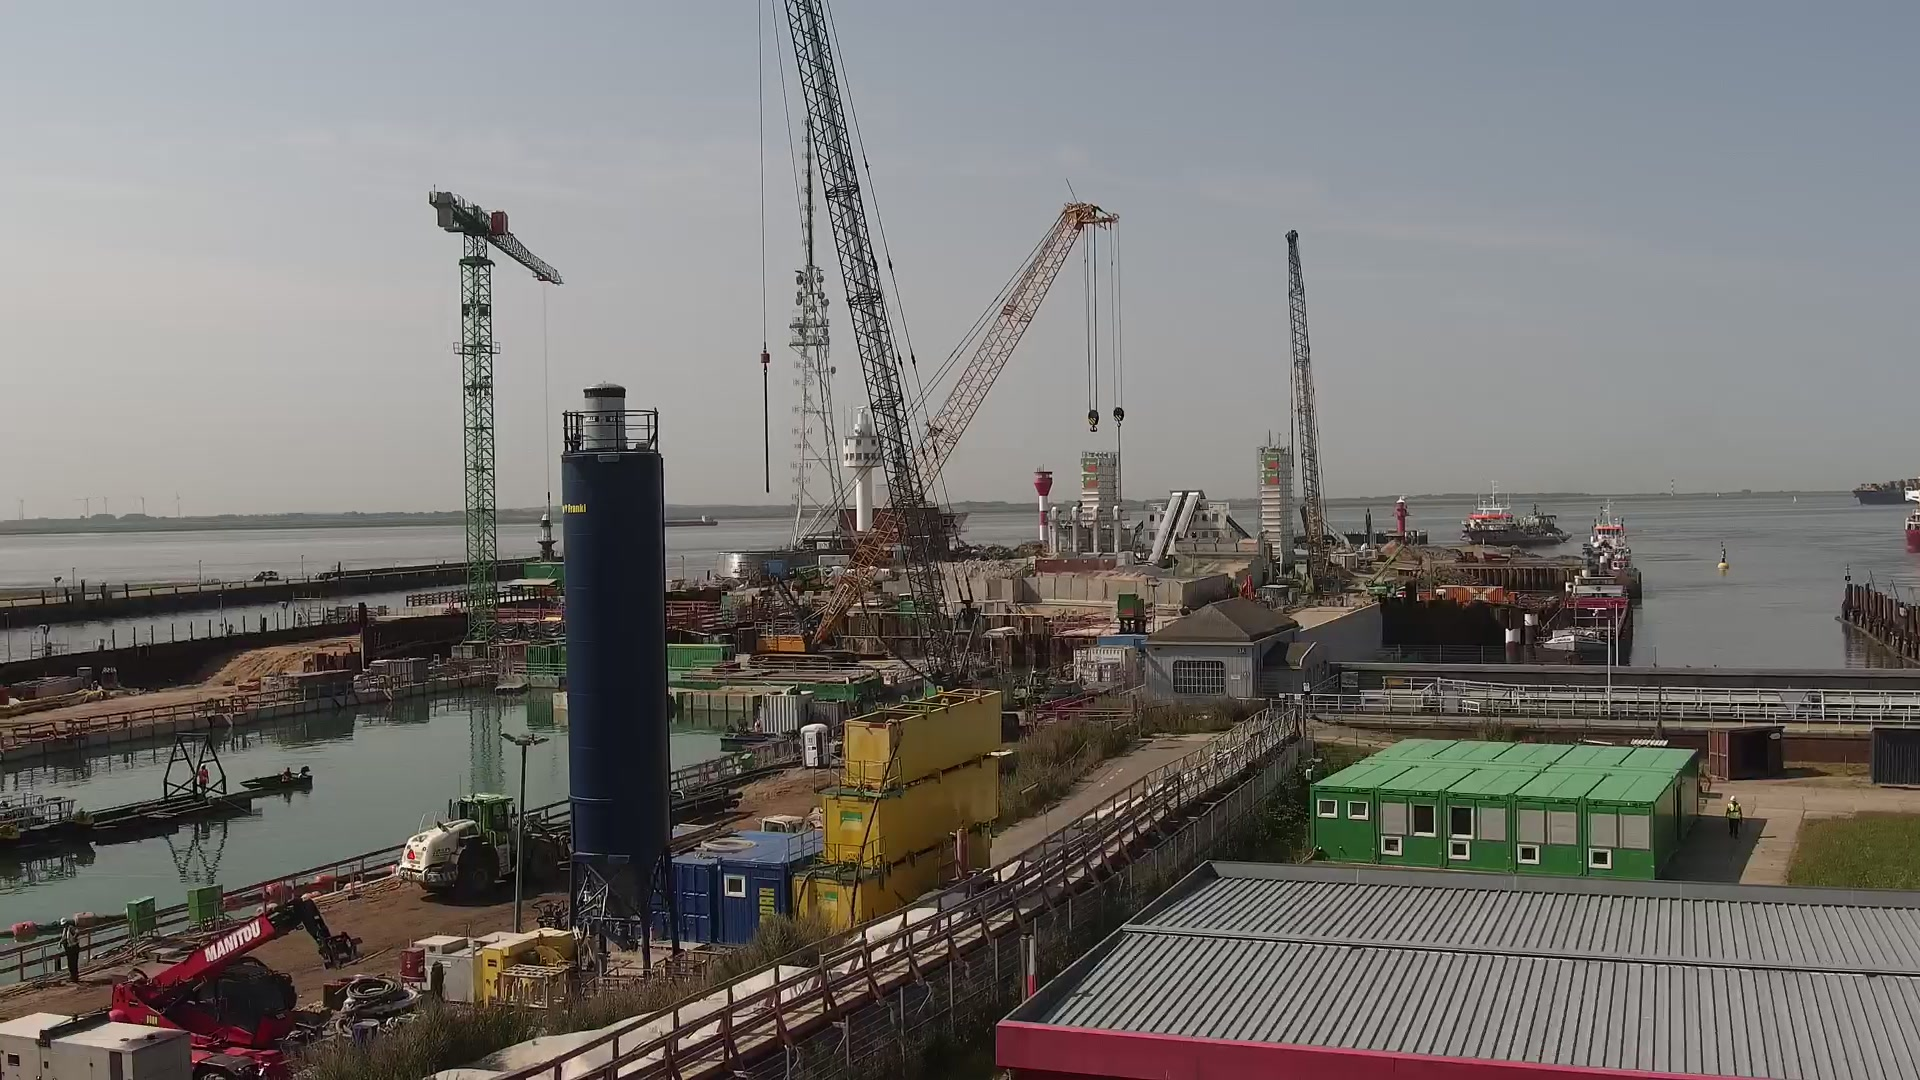human: (55, 916, 82, 982), (1724, 794, 1743, 839), (196, 762, 209, 797), (280, 766, 292, 783)
land: (395, 791, 573, 897), (252, 570, 280, 582)
sea: (1532, 574, 1632, 663), (1462, 479, 1573, 545), (1581, 497, 1632, 563), (1851, 476, 1920, 505), (239, 767, 313, 792), (1903, 508, 1920, 551), (665, 514, 719, 527), (1793, 494, 1797, 504)
